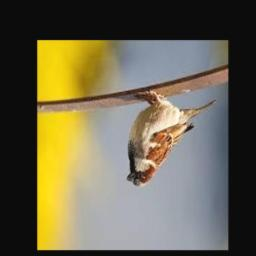Sparrow: (126, 89, 216, 187)
